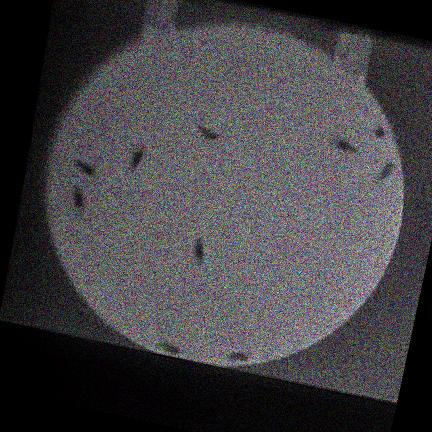fly: (330, 138, 357, 154), (197, 125, 216, 147), (128, 146, 143, 171), (375, 162, 394, 181), (73, 160, 95, 176), (71, 186, 84, 211), (192, 238, 203, 265), (158, 342, 179, 356), (227, 351, 247, 362), (373, 128, 384, 137)
